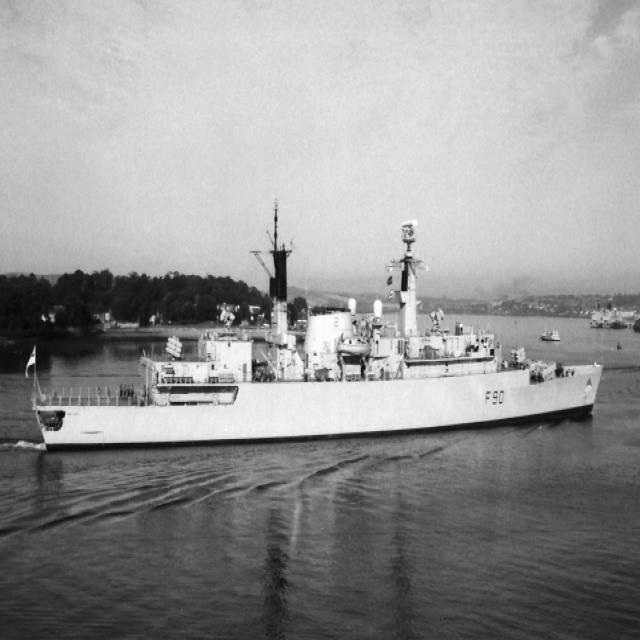Fragata: (25, 201, 605, 455)
